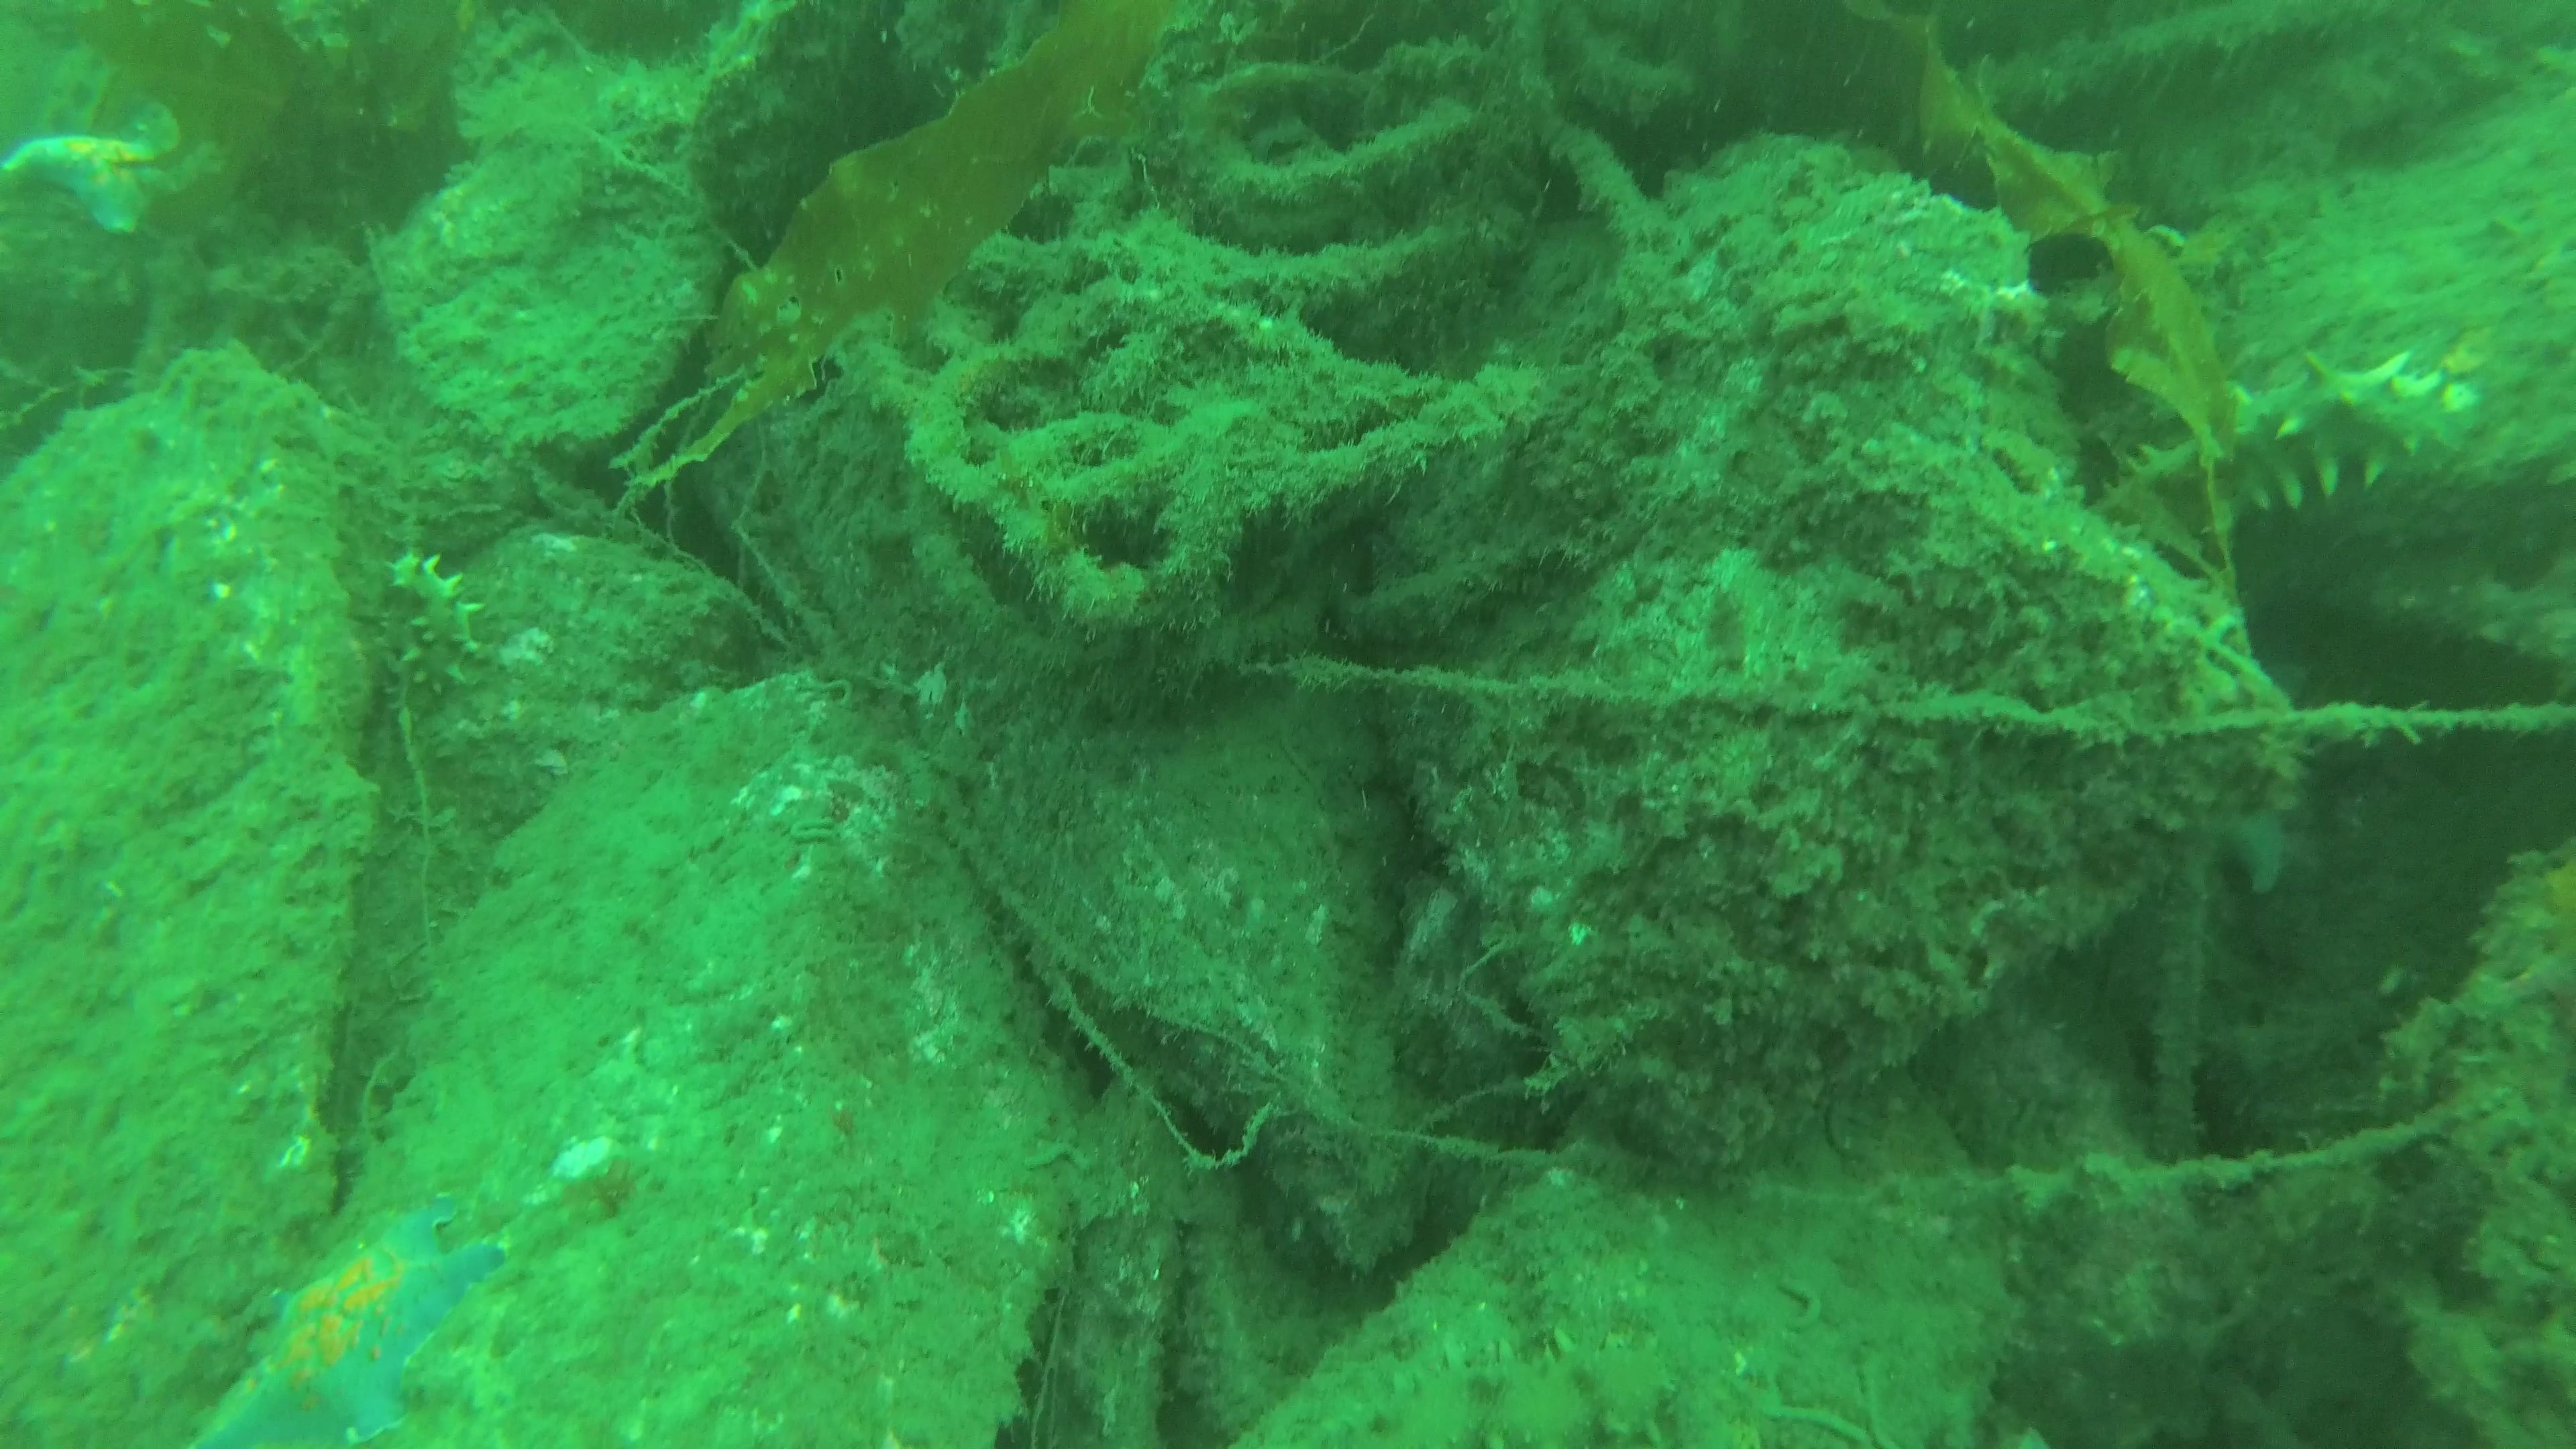holothurian: (2089, 338, 2482, 547), (372, 545, 485, 734)
starfish: (203, 1189, 524, 1449), (2197, 649, 2323, 904), (0, 124, 195, 244)
